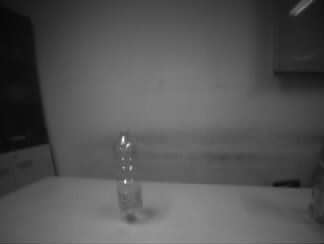Bottle: (111, 129, 145, 224)
